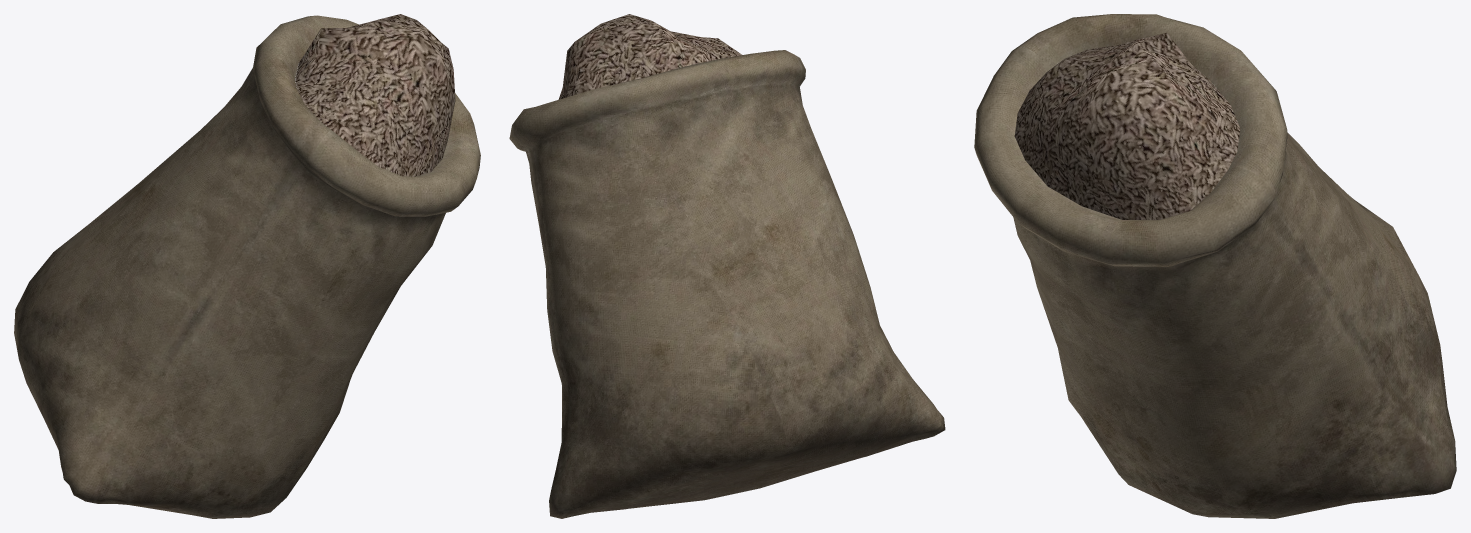
File: Sack_Bag_06.glb
3 renders of one model, left to right at view 1: azimuth 30°, elevation 25°; view 2: azimuth 150°, elevation 25°; view 3: azimuth 270°, elevation 25°, orthographic. The views are drawn at different scales.
Parts seen in each view (by area): view 1: SM_Sack_Bag_06; view 2: SM_Sack_Bag_06; view 3: SM_Sack_Bag_06.
Part boxes in pixels (bbox=[...]): SM_Sack_Bag_06: bbox=[14, 14, 480, 518]; SM_Sack_Bag_06: bbox=[509, 14, 945, 518]; SM_Sack_Bag_06: bbox=[974, 14, 1456, 518].
Bounding box in the file's own units: 0.8776 × 0.9238 × 0.7957.
1 material, 1 textured.
